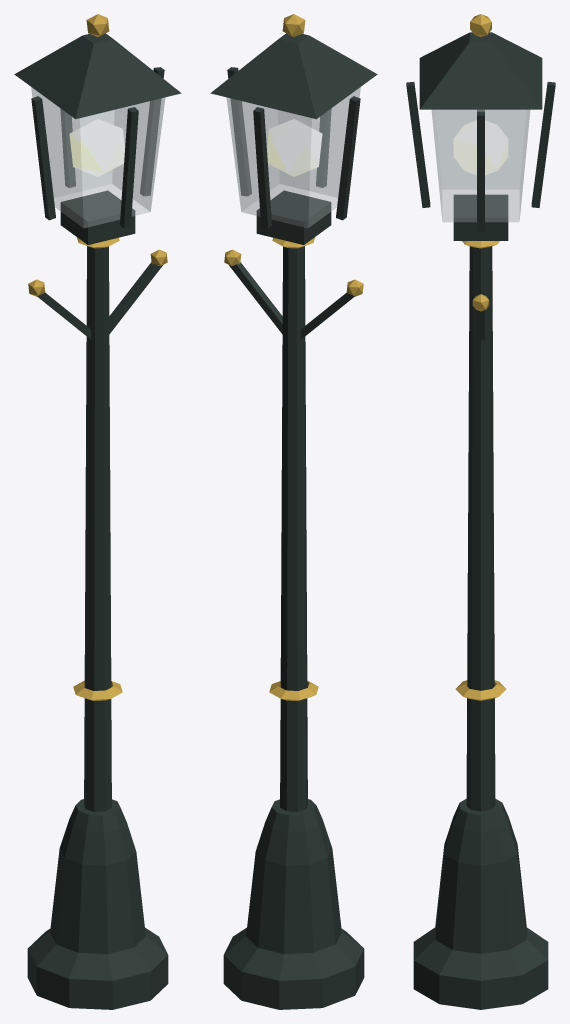
File: harbor_lamp_post_v01.glb
3 renders of one model, left to right at view 1: azimuth 30°, elevation 25°; view 2: azimuth 150°, elevation 25°; view 3: azimuth 270°, elevation 25°, orthographic.
Parts seen in each view (by area): view 1: lamp_post; view 2: lamp_post; view 3: lamp_post.
Boxes of the visible parts, box(x1,y1,x2,y2) form: lamp_post: box(14, 14, 181, 1009); lamp_post: box(210, 14, 377, 1009); lamp_post: box(406, 14, 555, 1009).
Bounding box in the file's own units: 0.4937 × 3.32 × 0.4648.
